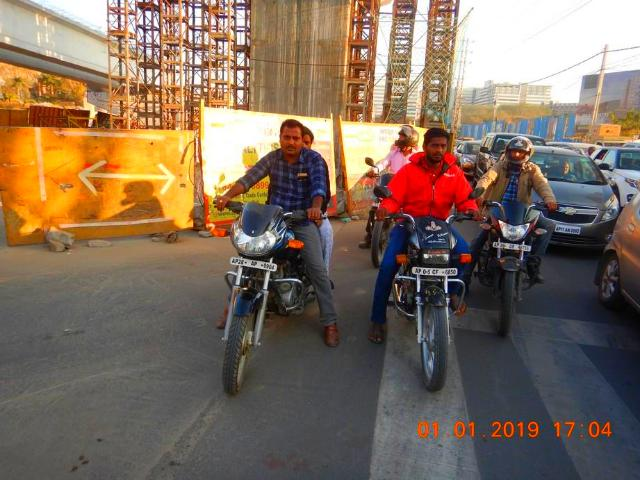helm: (506, 137, 534, 167), (396, 126, 420, 148)
motor: (214, 196, 329, 397), (375, 207, 488, 393), (476, 200, 560, 337)
non-helm: (423, 129, 449, 163), (281, 120, 303, 156)
